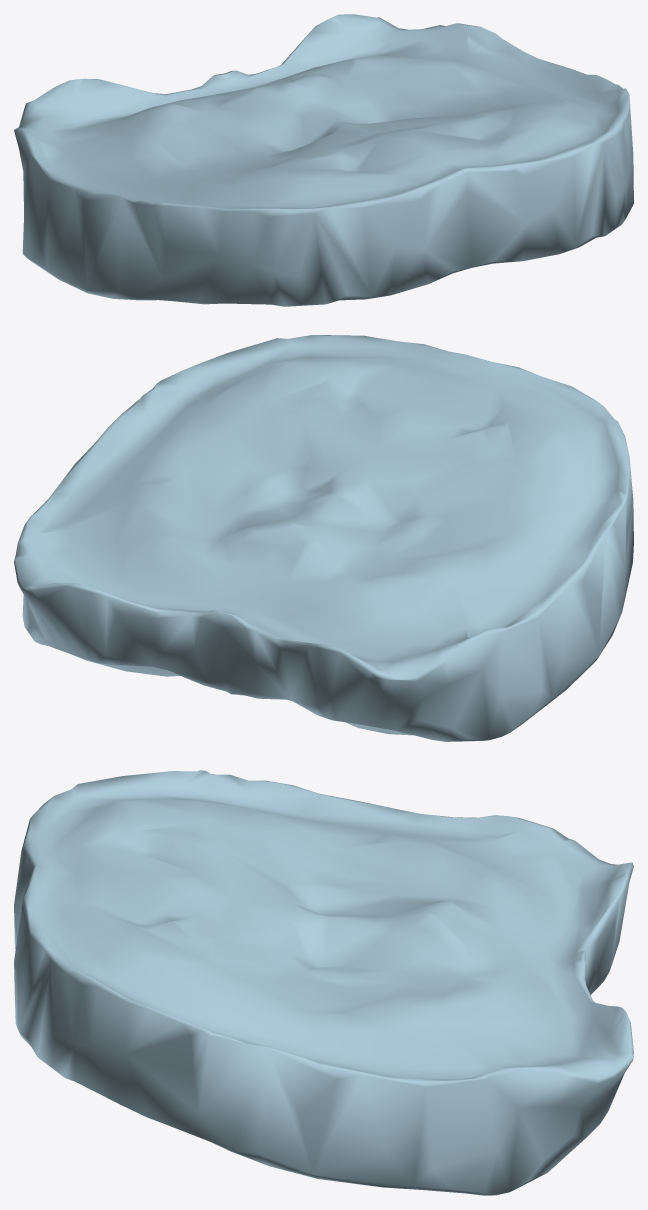
File: articulacoes-intervertebral-disc-t8-t9.glb
3 views of the same model, one above another, from view 1: azimuth 30°, elevation 25°; view 2: azimuth 150°, elevation 25°; view 3: azimuth 270°, elevation 25° (orthographic). The views are drawn at different scales.
Visible parts, largest first — view 1: Intervertebral disc T8-T9; view 2: Intervertebral disc T8-T9; view 3: Intervertebral disc T8-T9.
Part boxes in pixels (box(x1,y1,x2,y2)): Intervertebral disc T8-T9: box(14, 14, 633, 306); Intervertebral disc T8-T9: box(14, 335, 633, 741); Intervertebral disc T8-T9: box(14, 770, 633, 1195).
Bounding box in the file's own units: 0.0382 × 0.0134 × 0.0354.
